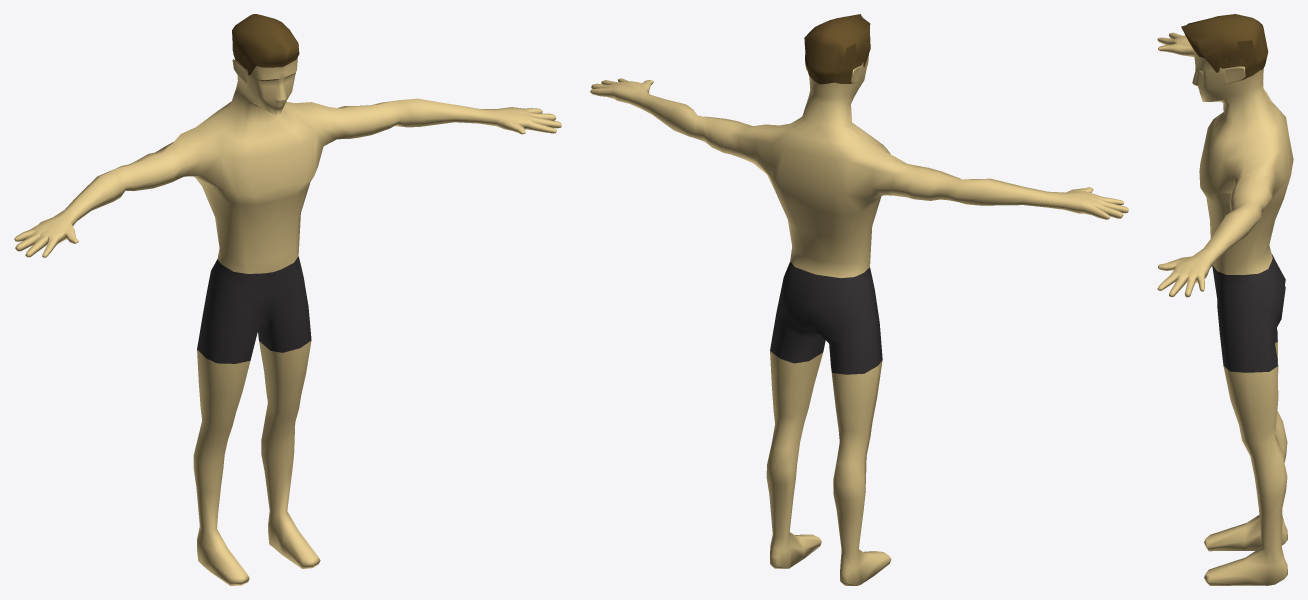
Rendered from Male.fbx.
3 views of the same model, side by side, from view 1: azimuth 30°, elevation 25°; view 2: azimuth 150°, elevation 25°; view 3: azimuth 270°, elevation 25° (orthographic).
Visible parts, largest first — view 1: Male1; view 2: Male1; view 3: Male1.
Boxes of the visible parts, box(x1,y1,x2,y2) form: Male1: box(14, 14, 561, 585); Male1: box(590, 14, 1128, 585); Male1: box(1157, 14, 1293, 585).
Bounding box in the file's own units: 190 × 184 × 41.43.
